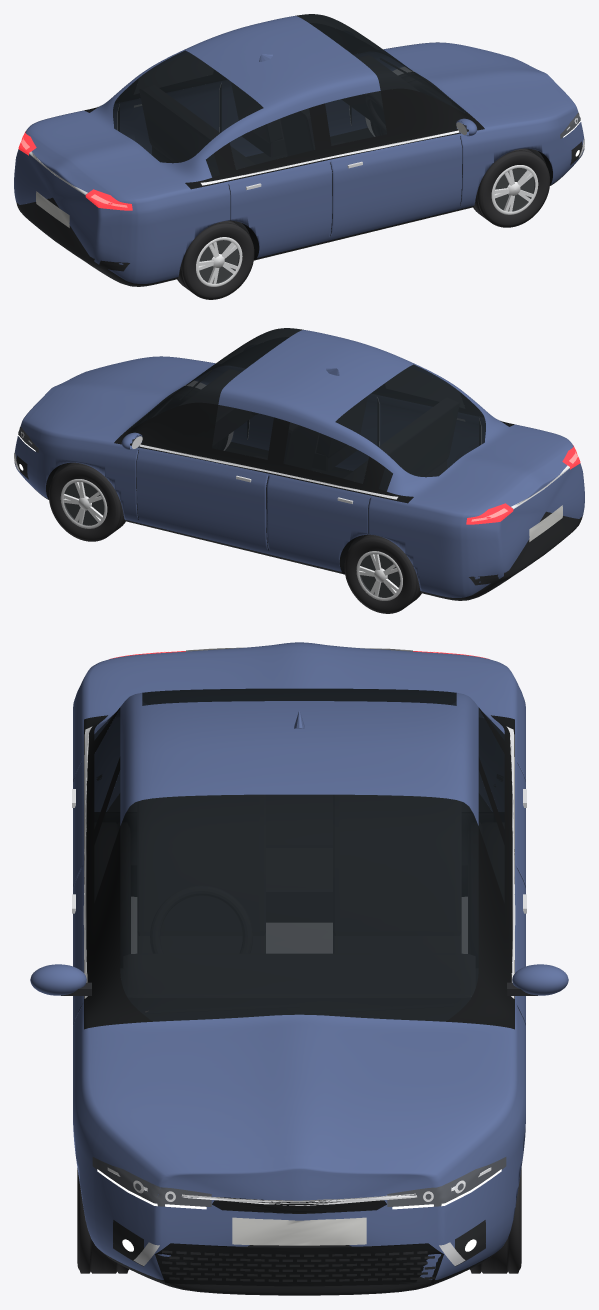
Rendered from vw-virtus-model.glb.
3 renders of one model, top to bottom at view 1: azimuth 30°, elevation 25°; view 2: azimuth 150°, elevation 25°; view 3: azimuth 270°, elevation 25°, orthographic. The views are drawn at different scales.
Parts seen in each view (by area): view 1: Body, Wheel.004, Wheel.002, SeatBack.002, Dashboard, SeatBack.001, SeatBack, RearBumper, WindowChrome.001, TailLamp, SeatBase, Wheel.001 (+2 smaller); view 2: Body, Wheel.003, Wheel.001, SeatBack.002, Dashboard, SeatBack, SeatBack.001, RearBumper, WindowChrome, TailLamp, Wheel.002, SeatBase.001 (+2 smaller); view 3: Body, Dashboard, SeatBack, SeatBack.001, Intake, SeatBase.002, PlateFront, SeatBack.002, Headlamp, Wheel.003, Wheel.004, SeatBase (+12 smaller).
Part boxes in pixels (x1,y1,x2,y2): Body: (14, 14, 583, 286); Wheel.004: (177, 220, 254, 299); Wheel.002: (473, 148, 550, 227); SeatBack.002: (140, 84, 230, 176); Dashboard: (342, 56, 417, 127); SeatBack.001: (281, 109, 314, 155); SeatBack: (231, 82, 281, 143); RearBumper: (16, 202, 129, 271); WindowChrome.001: (201, 130, 459, 185); TailLamp: (18, 131, 132, 210); SeatBase: (242, 119, 286, 156); Wheel.001: (371, 72, 451, 135); Body: (15, 328, 584, 600); Wheel.003: (344, 534, 421, 613); Wheel.001: (48, 462, 125, 541); SeatBack.002: (368, 398, 458, 490); Dashboard: (181, 370, 252, 445); SeatBack: (284, 423, 317, 469); SeatBack.001: (317, 396, 367, 457); RearBumper: (469, 516, 582, 585); WindowChrome: (139, 444, 397, 499); TailLamp: (466, 445, 580, 524); Wheel.002: (147, 386, 227, 449); SeatBase.001: (312, 433, 356, 470); Body: (73, 642, 525, 1295); Dashboard: (124, 954, 474, 1021); SeatBack: (333, 795, 460, 935); SeatBack.001: (138, 795, 265, 935); Intake: (155, 1243, 443, 1286); SeatBase.002: (266, 848, 332, 921); PlateFront: (232, 1217, 366, 1245); SeatBack.002: (266, 795, 332, 847); Headlamp: (92, 1157, 506, 1207); Wheel.003: (468, 823, 503, 967); Wheel.004: (95, 823, 130, 967); SeatBase: (333, 934, 460, 952).
Bounding box in the file's own units: 4.5 × 1.55 × 2.09.
